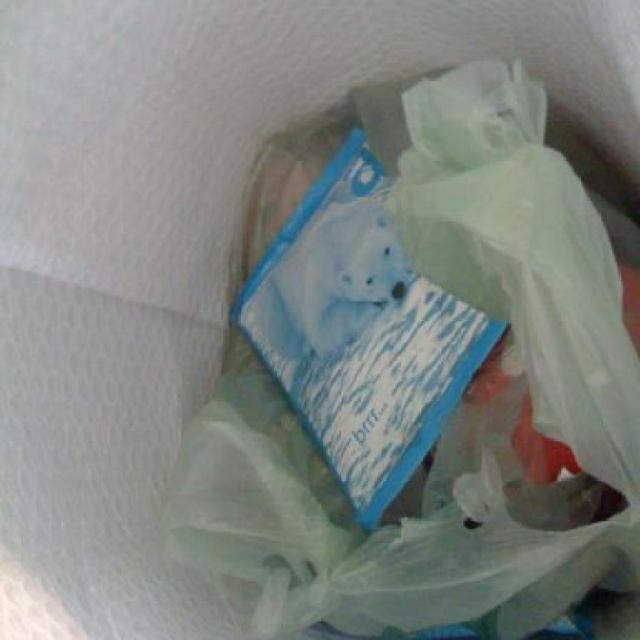plastic bag: (157, 57, 638, 638)
